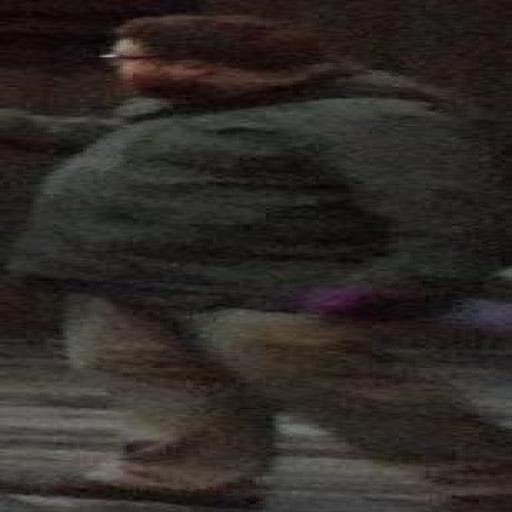person: (4, 16, 511, 511)
